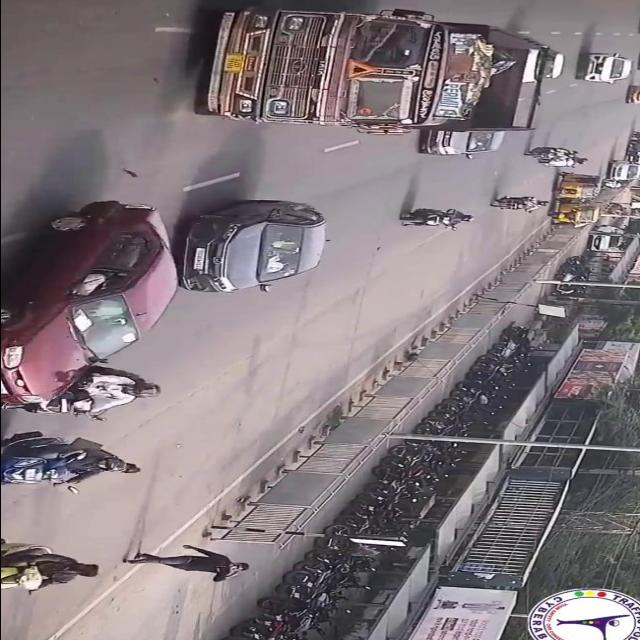accident: (0, 198, 198, 422)
non_accident: (170, 8, 562, 156), (520, 142, 592, 170), (601, 140, 640, 183)
